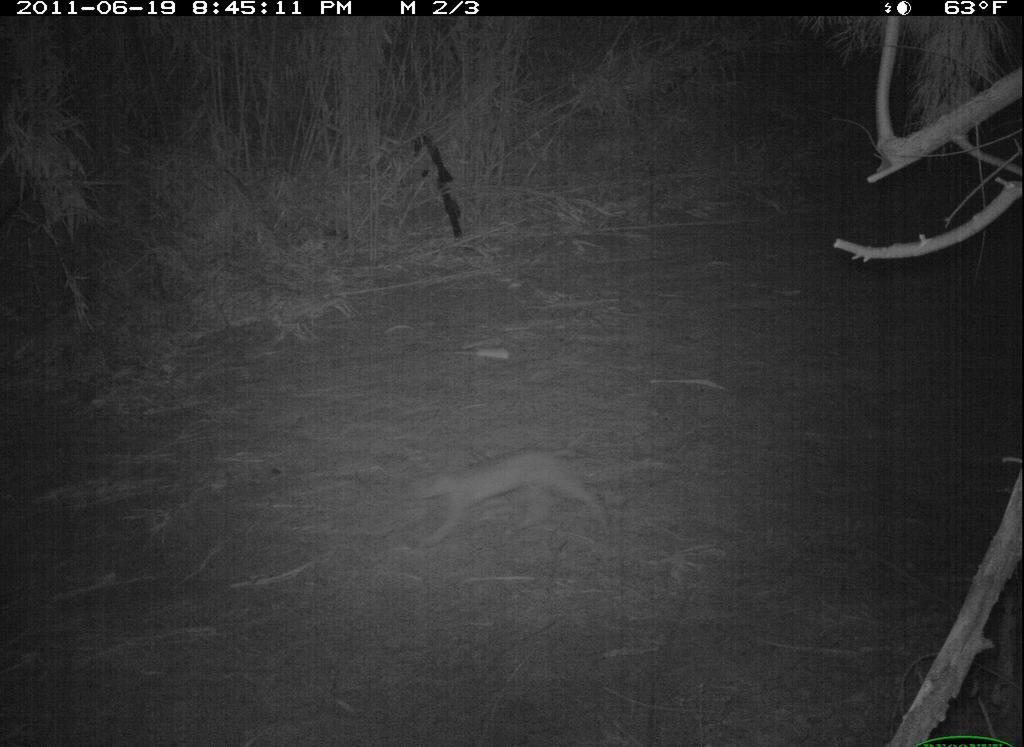bobcat: (405, 442, 621, 550)
